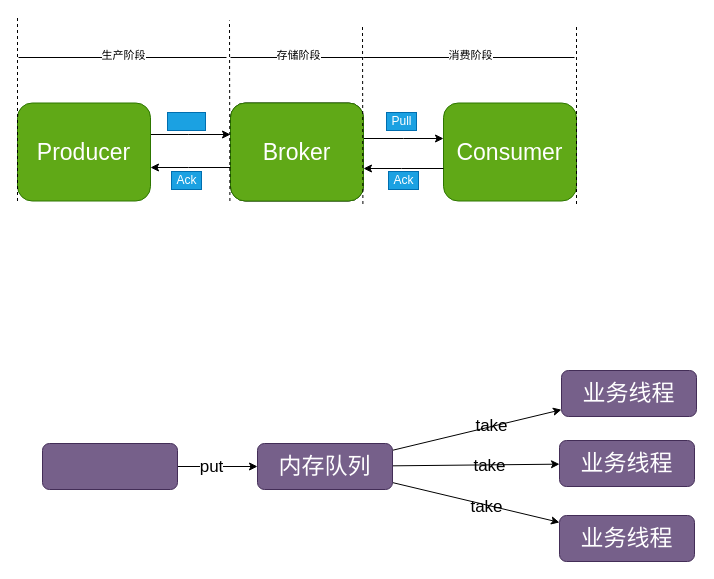
Some shapes in this 714 by 579 pixel diagram are drawn without their labels. Each missing label, with the centre of its shape:
"OnMessage" belongs at pixel 110 466.
"Send" belongs at pixel 186 121.
